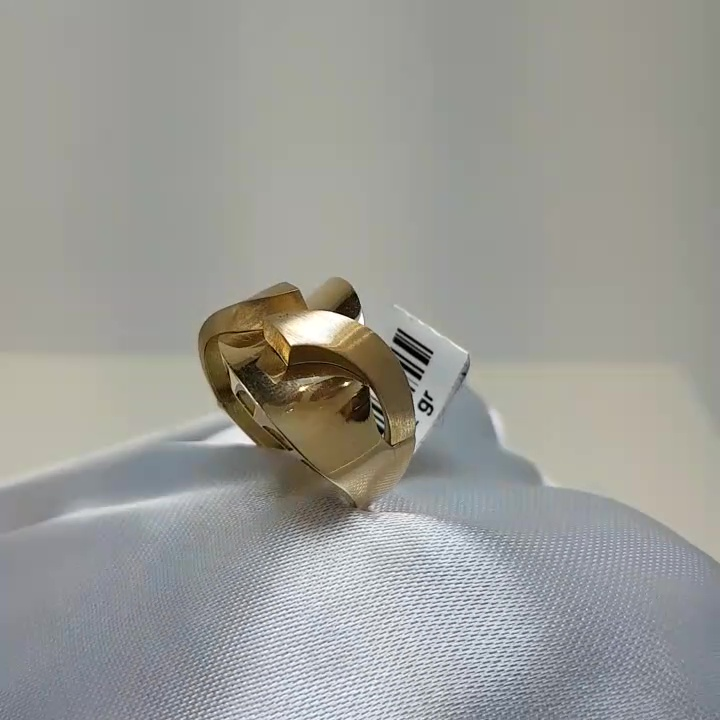Ring 4: (193, 269, 448, 537)
